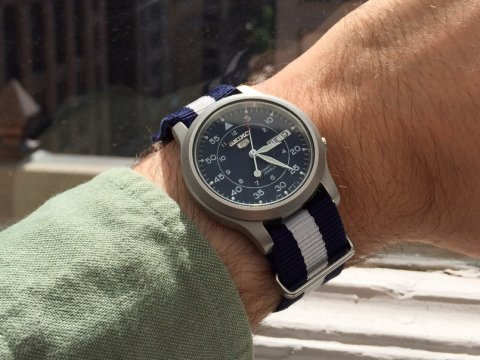clock: (180, 92, 330, 223)
